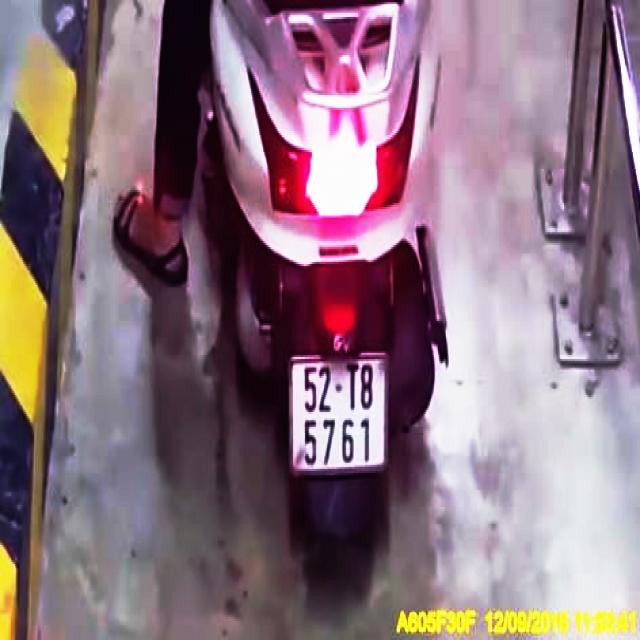license_plate: (290, 360, 388, 467)
